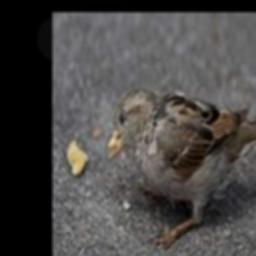Sparrow: (103, 87, 256, 247)
